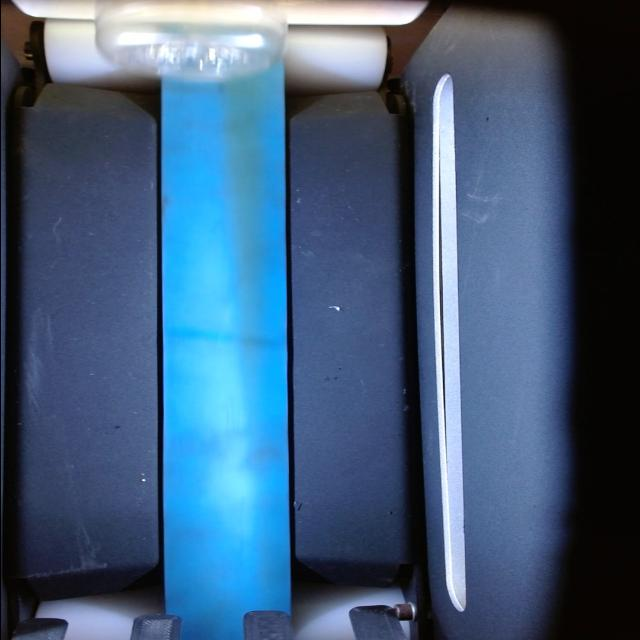bottom: (96, 0, 286, 80)
